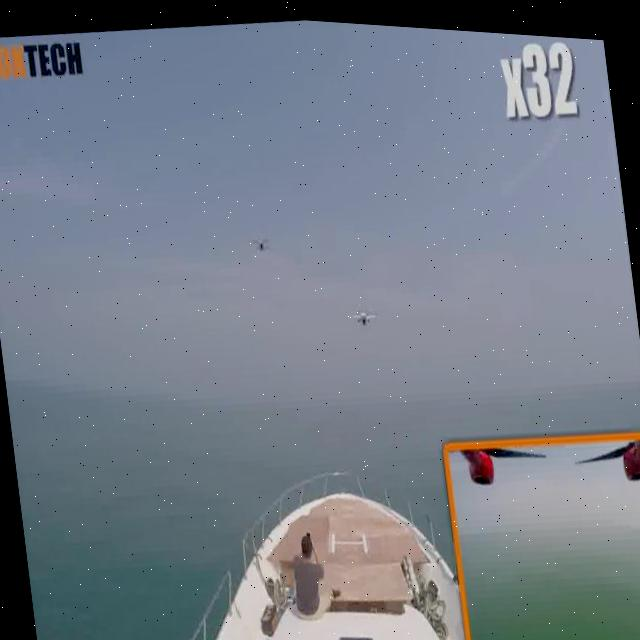drone: (344, 291, 384, 332), (242, 222, 276, 258)
